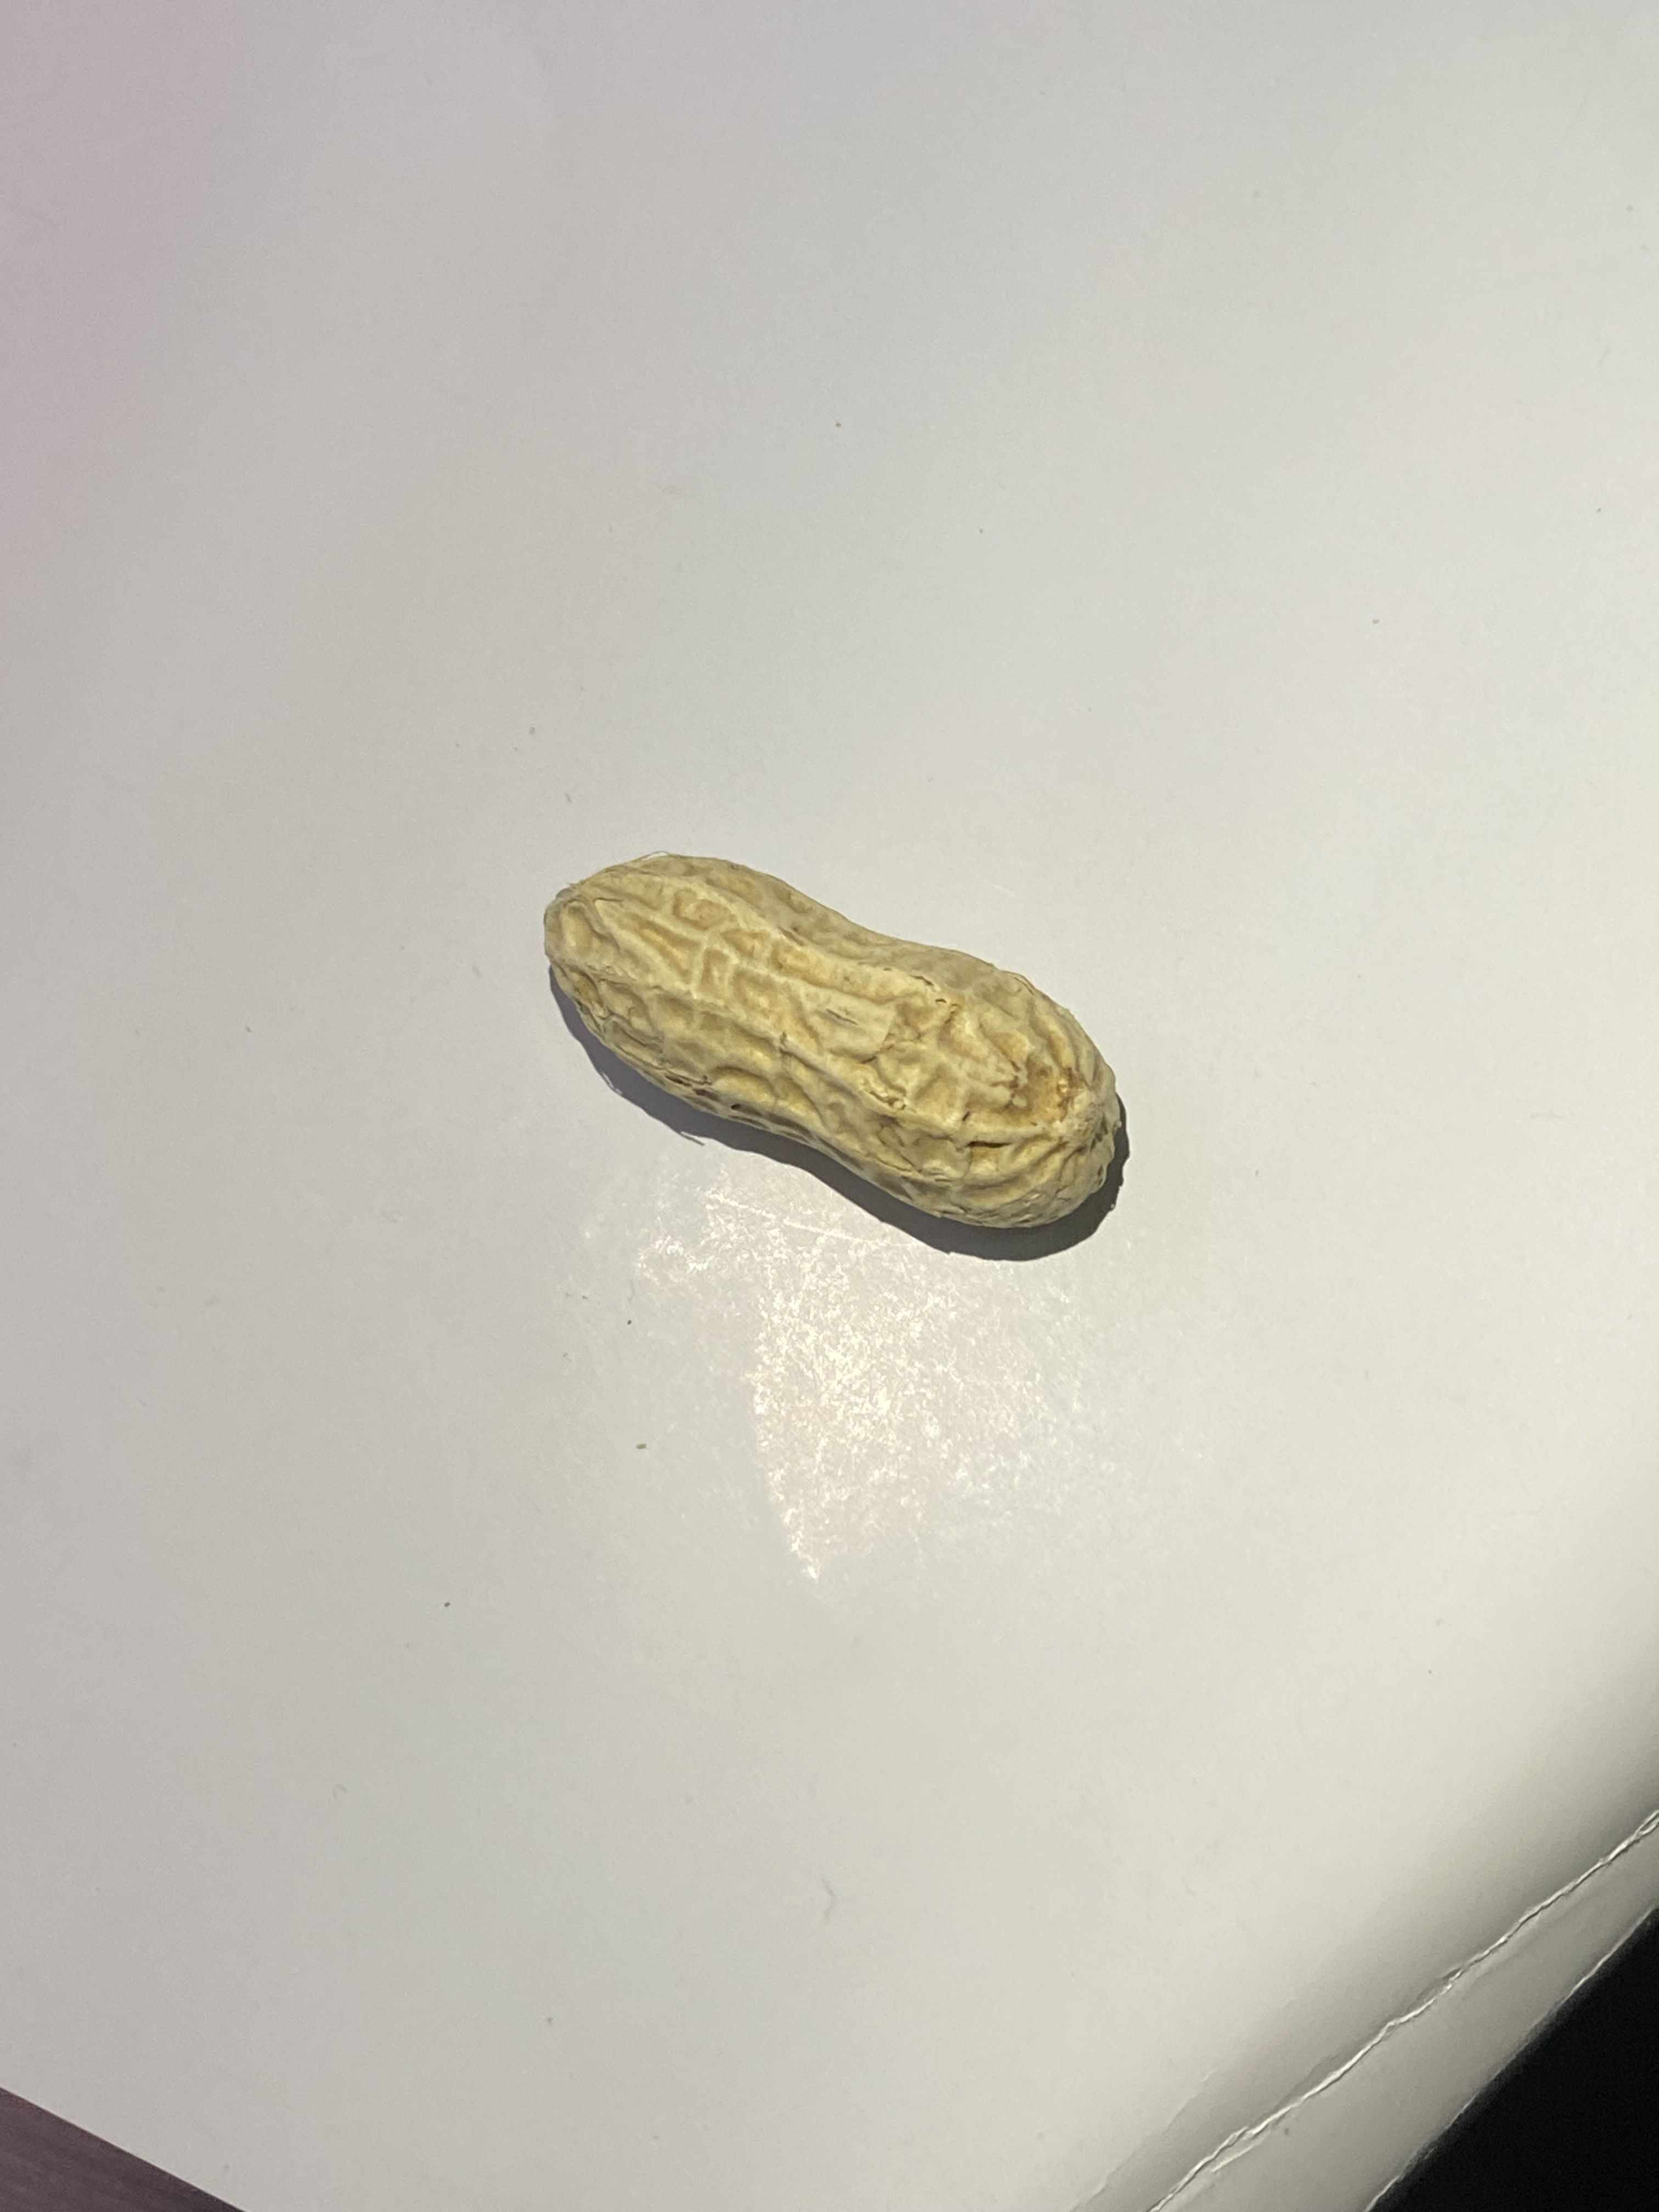kacang2: (532, 841, 1143, 1247)
